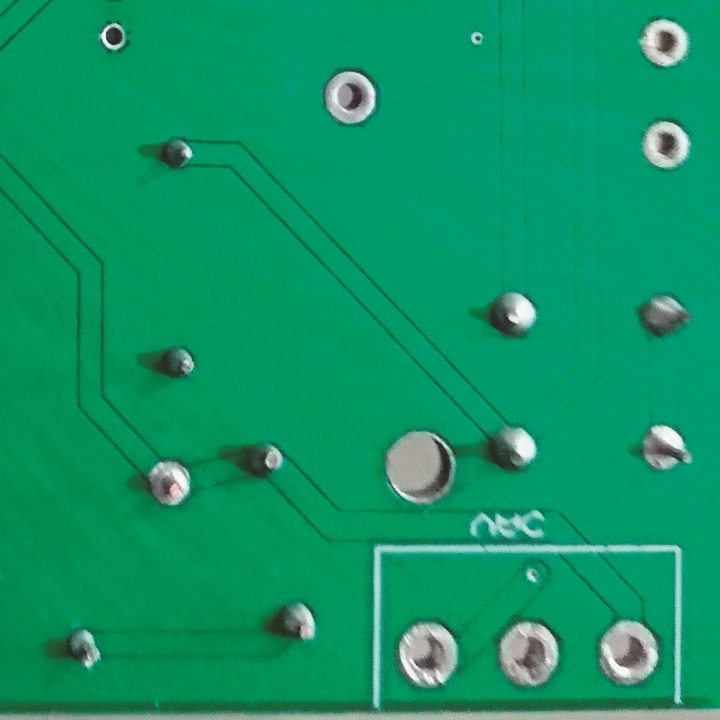F: (396, 617, 464, 692), (496, 621, 569, 690), (596, 613, 664, 686), (321, 68, 382, 132), (636, 12, 695, 73), (639, 418, 697, 479), (641, 119, 693, 173), (147, 455, 192, 515), (94, 18, 131, 55)
